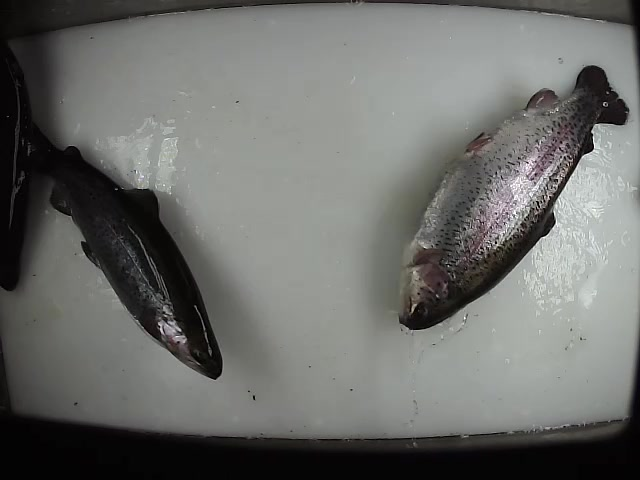fish: (394, 61, 632, 333), (28, 120, 224, 380), (1, 31, 32, 293)
